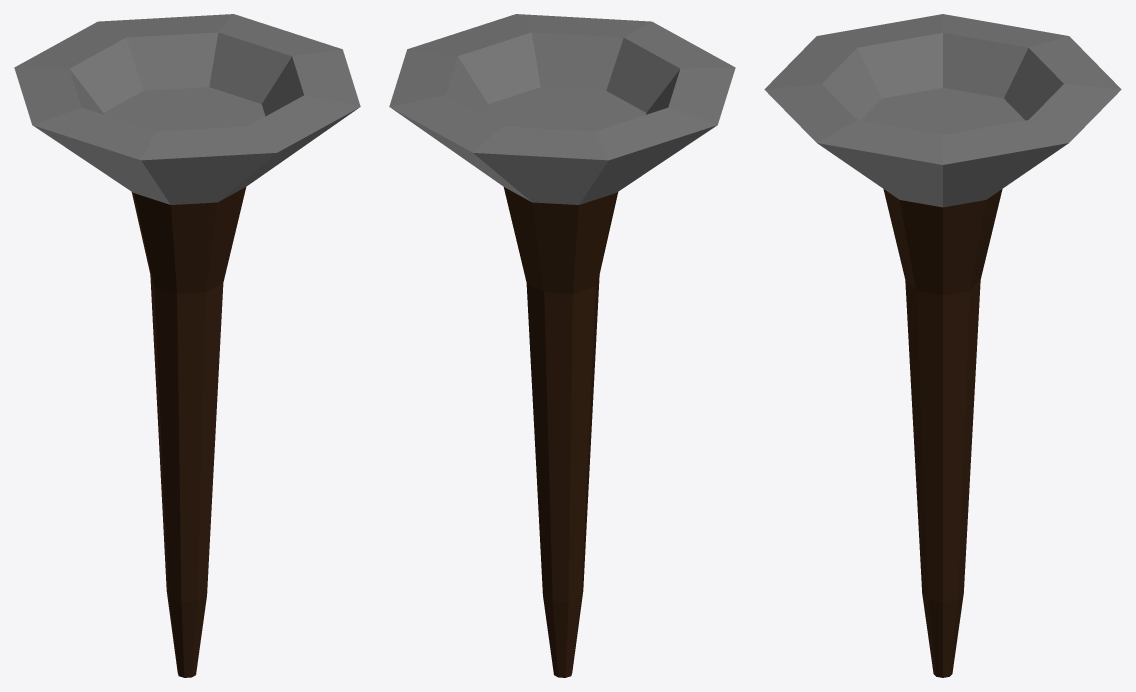
The model's file is torch_type_02.fbx.
3 renders of one model, left to right at view 1: azimuth 30°, elevation 25°; view 2: azimuth 150°, elevation 25°; view 3: azimuth 270°, elevation 25°, orthographic.
Parts seen in each view (by area): view 1: torch_type_02; view 2: torch_type_02; view 3: torch_type_02.
Part boxes in pixels (x1,y1,x2,y2): torch_type_02: (14,14,360,677); torch_type_02: (389,14,735,677); torch_type_02: (764,14,1121,677).
Bounding box in the file's own units: 18.44 × 33.59 × 18.44.
